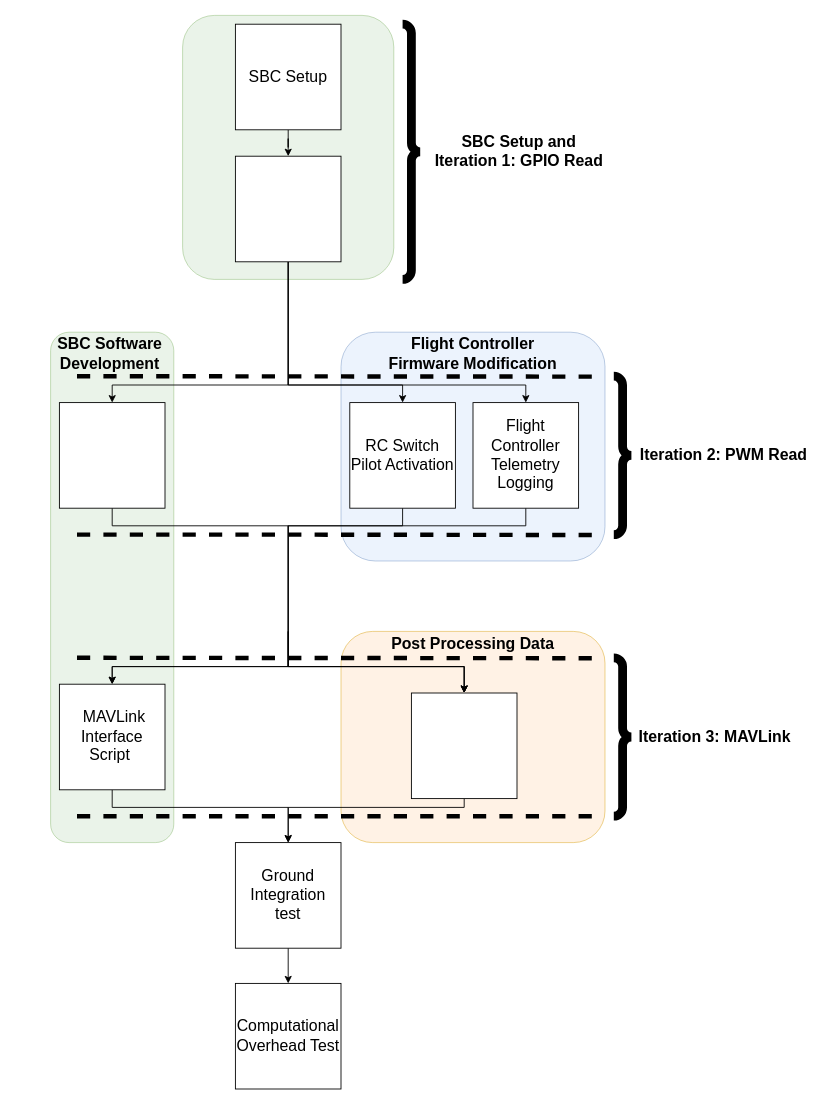
The diagram is 835 pixels wide and 1104 high, and some of its shapes have lost their labels. The centre of each missing label's shape, as x and y in pixels:
GPS and SDR Data Visualisation: the point at 464,745
Initial GPIO pin interface: the point at 288,208
PWM Interface Script: the point at 112,455
